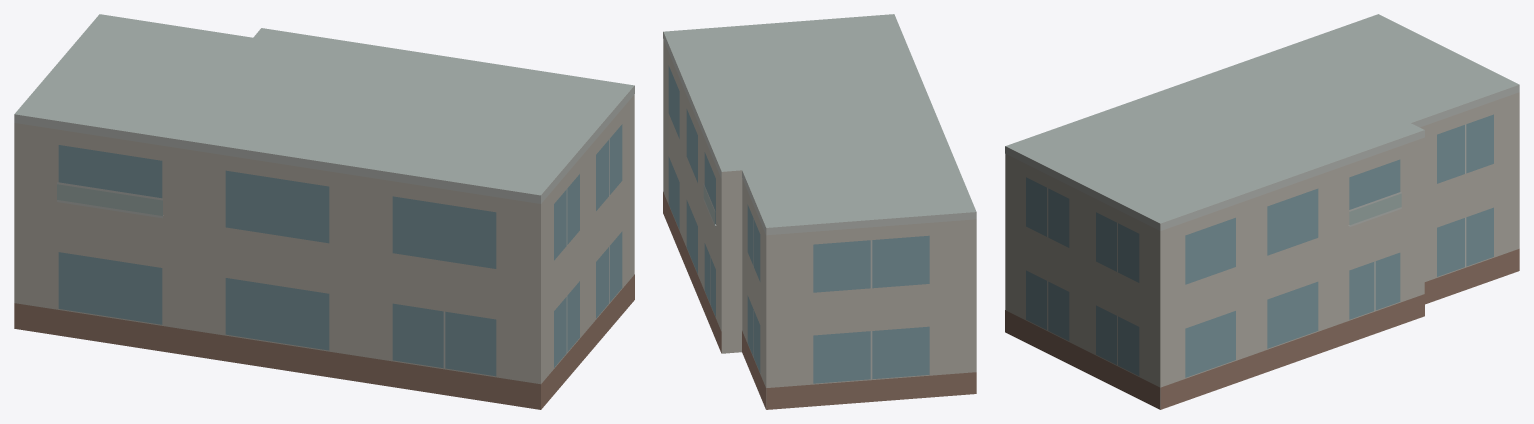
File: survey-upis-32778468.glb
3 renders of one model, left to right at view 1: azimuth 30°, elevation 25°; view 2: azimuth 150°, elevation 25°; view 3: azimuth 270°, elevation 25°, orthographic. The views are drawn at different scales.
Visible parts, largest first — view 1: survey-upis-32778468.tmp; view 2: survey-upis-32778468.tmp; view 3: survey-upis-32778468.tmp.
Boxes of the visible parts, <box> form: survey-upis-32778468.tmp: <box>14,14,634,409</box>; survey-upis-32778468.tmp: <box>663,14,976,409</box>; survey-upis-32778468.tmp: <box>1005,14,1519,409</box>.
Size of the model in its own units: 14.74 by 6.1 by 15.28.
